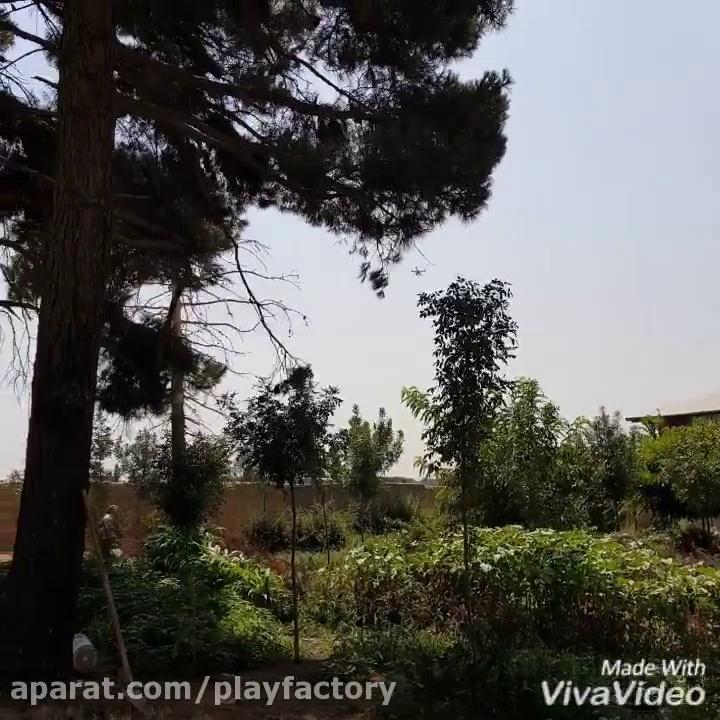drone: (410, 265, 426, 278)
